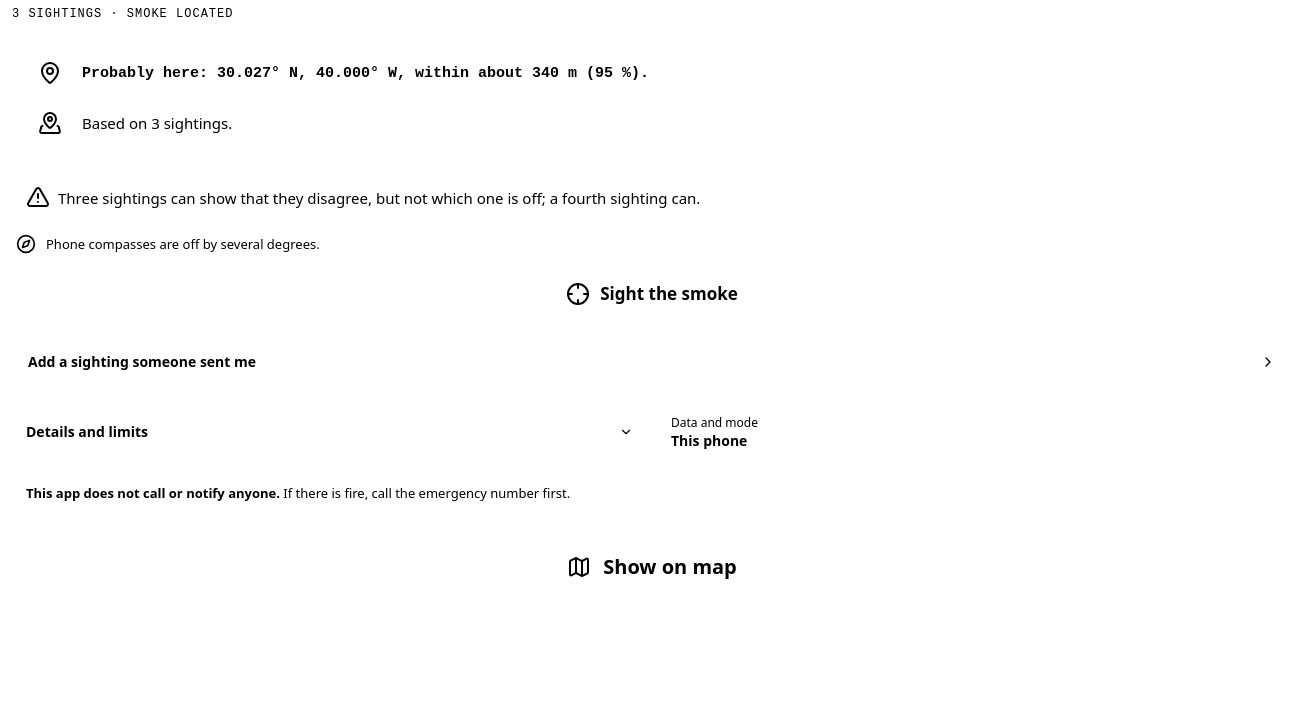
it: the Smoke tab as cards (Req 22.6) › the tiles: "Add a sighting someone sent me" ends in a chevron-right; "Details and limits" in a chevron-down that turns over
Expected: the 7th icon is shown, [619,425,633,439]
What coordinates should you click on to do the following:
click the button "Details and limits"
I would click on:
 (87, 432)
Its box is [12,402,647,462].
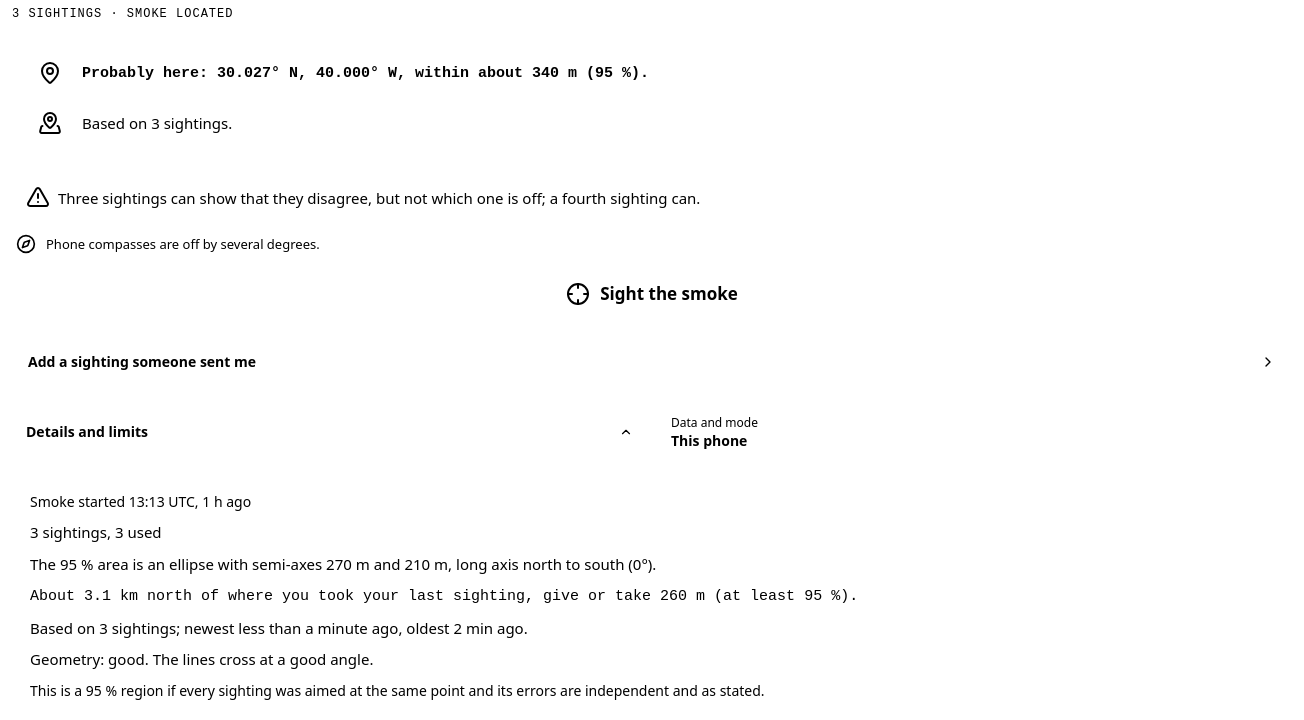
Now the button "Details and limits" is expanded, box [12,402,647,462]
